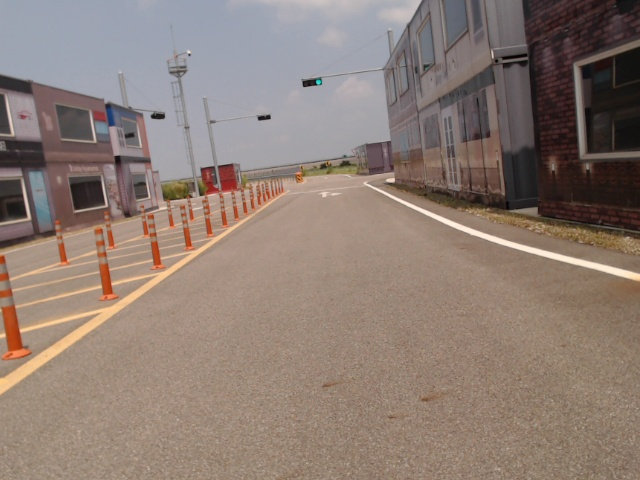green_3: (302, 78, 323, 88)
